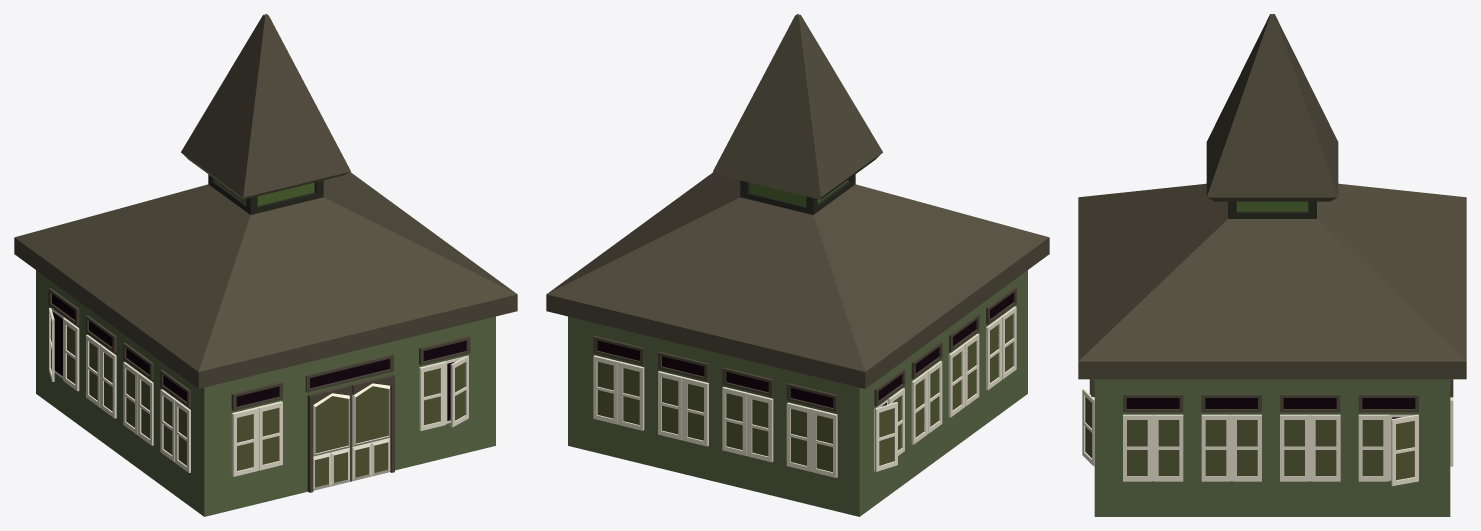
Rendered from surau.fbx.
3 renders of one model, left to right at view 1: azimuth 30°, elevation 25°; view 2: azimuth 150°, elevation 25°; view 3: azimuth 270°, elevation 25°, orthographic. The views are drawn at different scales.
Parts seen in each view (by area): view 1: Cube.055, Cube.059, Cube.057, Cube.062, Cube.056, Cube.064, Cube.066, Cube.024, Cube.060, Cube.065; view 2: Cube.055, Cube.061, Cube.057, Cube.063, Cube.056, Cube.058, Cube.024; view 3: Cube.055, Cube.057, Cube.056, Cube.024, Cube.058, Cube.065.
Part boxes in pixels (x1,y1,x2,y2): Cube.055: (14,14,517,516); Cube.059: (307,374,394,492); Cube.057: (86,334,190,472); Cube.062: (231,401,282,476); Cube.056: (48,288,190,407); Cube.064: (419,356,464,430); Cube.066: (231,336,470,410); Cube.024: (51,308,79,391); Cube.060: (305,354,393,392); Cube.065: (450,355,468,427); Cube.055: (546,14,1049,516); Cube.061: (593,355,837,477); Cube.057: (911,306,1016,444); Cube.063: (593,336,837,412); Cube.056: (874,287,1016,406); Cube.058: (875,402,897,471); Cube.024: (874,388,904,471); Cube.055: (1078,14,1466,516); Cube.057: (1123,414,1340,481); Cube.056: (1123,394,1418,412); Cube.024: (1358,414,1418,481); Cube.058: (1391,414,1418,485); Cube.065: (1082,389,1094,465).
Size of the model in its own units: 1640 by 1988 by 1640.
